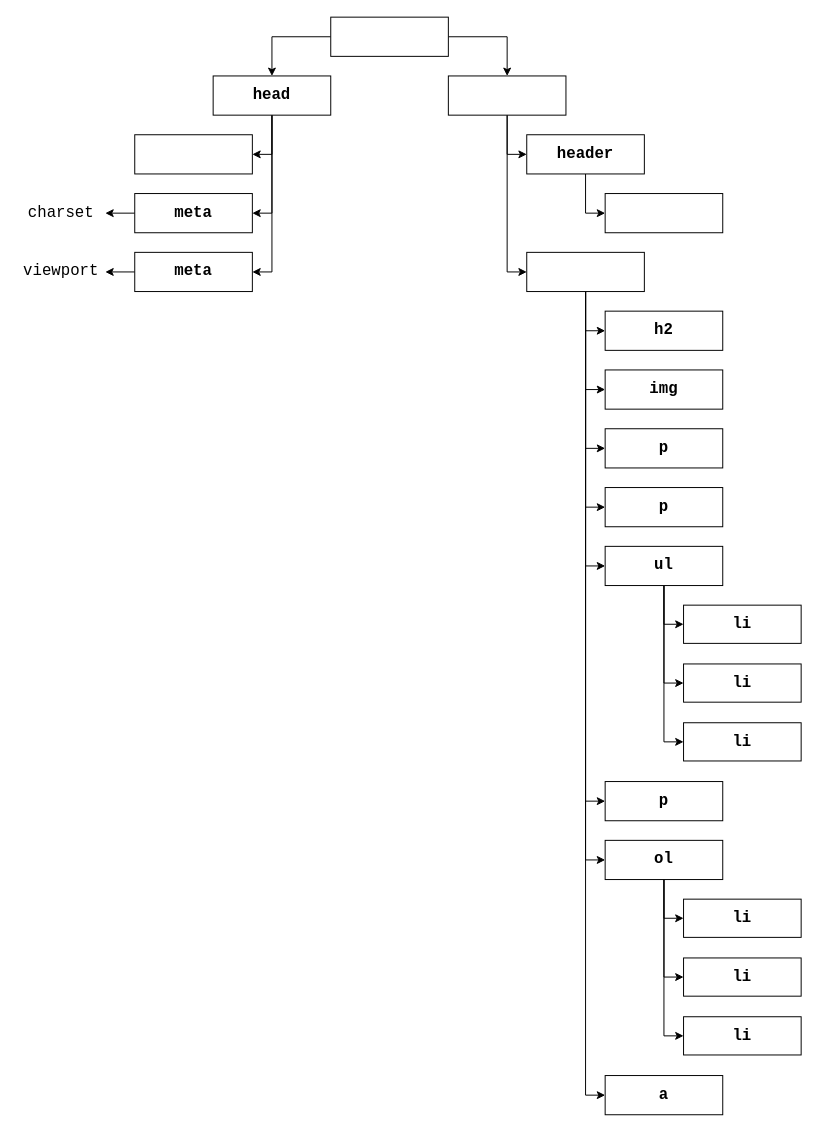
This 818x1132 diagram has some shape labels left out. Each missing label, with the centre of its shape:
article: point (585, 271)
body: point (506, 95)
h1: point (663, 213)
html: point (389, 36)
title: point (193, 154)
